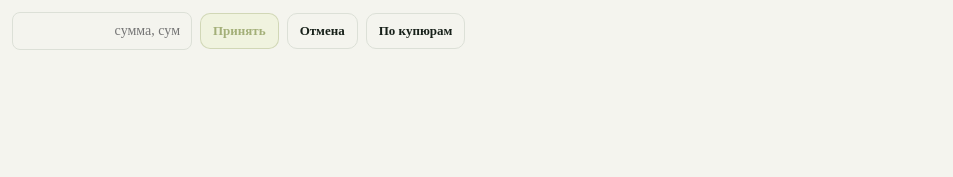
Test: CollectionReceive › блокирует приём, пока сумма купюр не совпадает
Type "10000" into the field with placeholder "сумма, сум" at (102, 31), box 12,12 -> 192,50
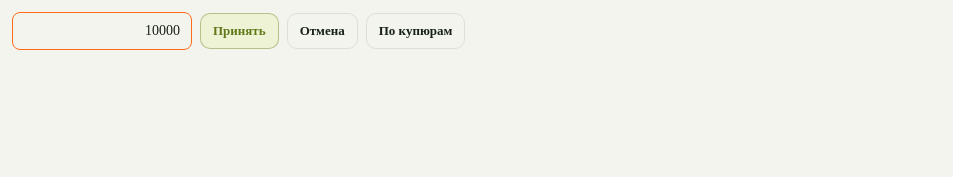
Click the button "По купюрам" at (416, 31), box 366,13 -> 466,49
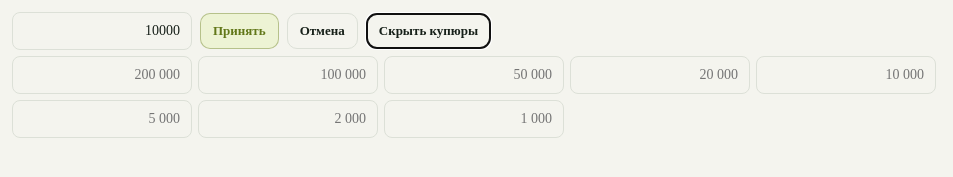
Type "1" into the field named "купюр номиналом 5 000 сум" at (102, 119), box 12,100 -> 192,138
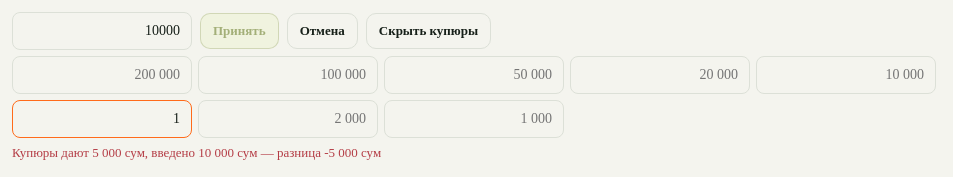
Check: the text "Купюры дают 5 000 сум, введено 10 000 сум" is shown, box 12,145 -> 381,160
Check: the button "Принять" is disabled, box 200,13 -> 279,49
